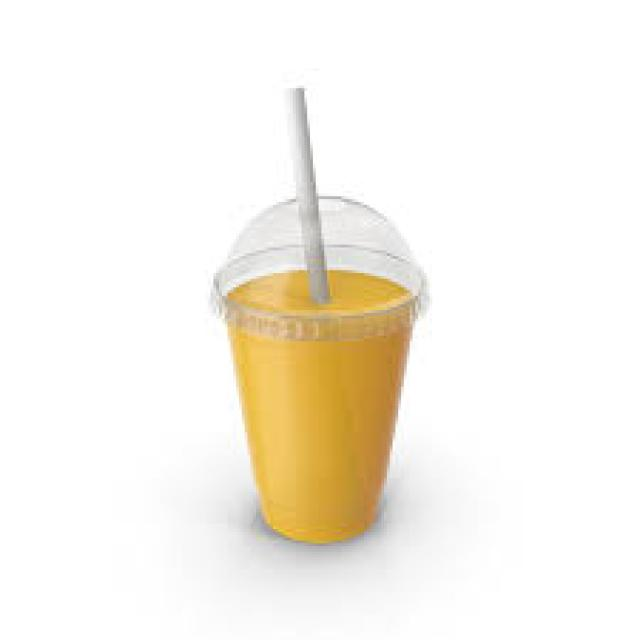cup: (200, 258, 442, 563)
